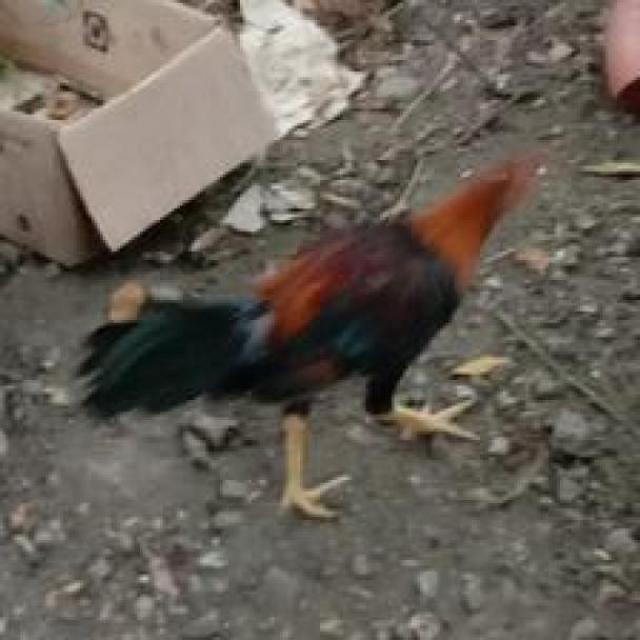Chicken: (70, 172, 613, 528)
